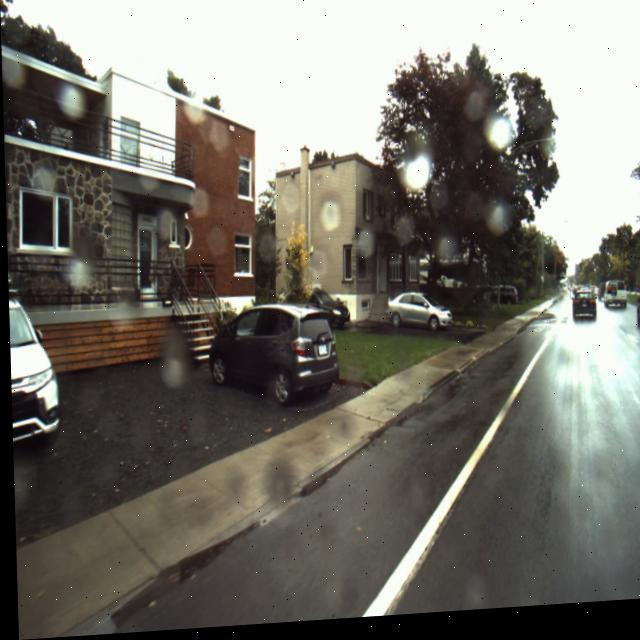car: (204, 303, 335, 410), (7, 298, 59, 452), (385, 295, 451, 339), (307, 293, 349, 333), (600, 287, 626, 320), (571, 297, 595, 329), (634, 296, 640, 340)
